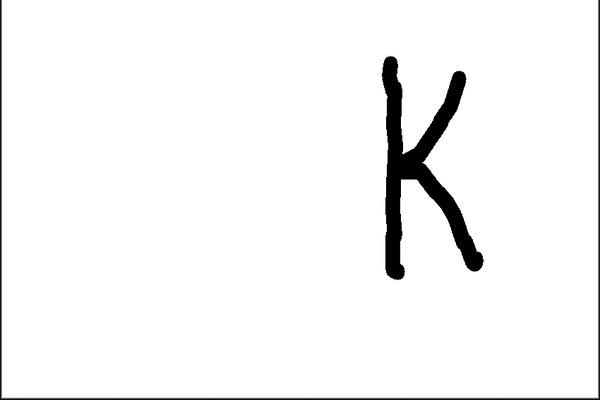K: (371, 50, 494, 283)
